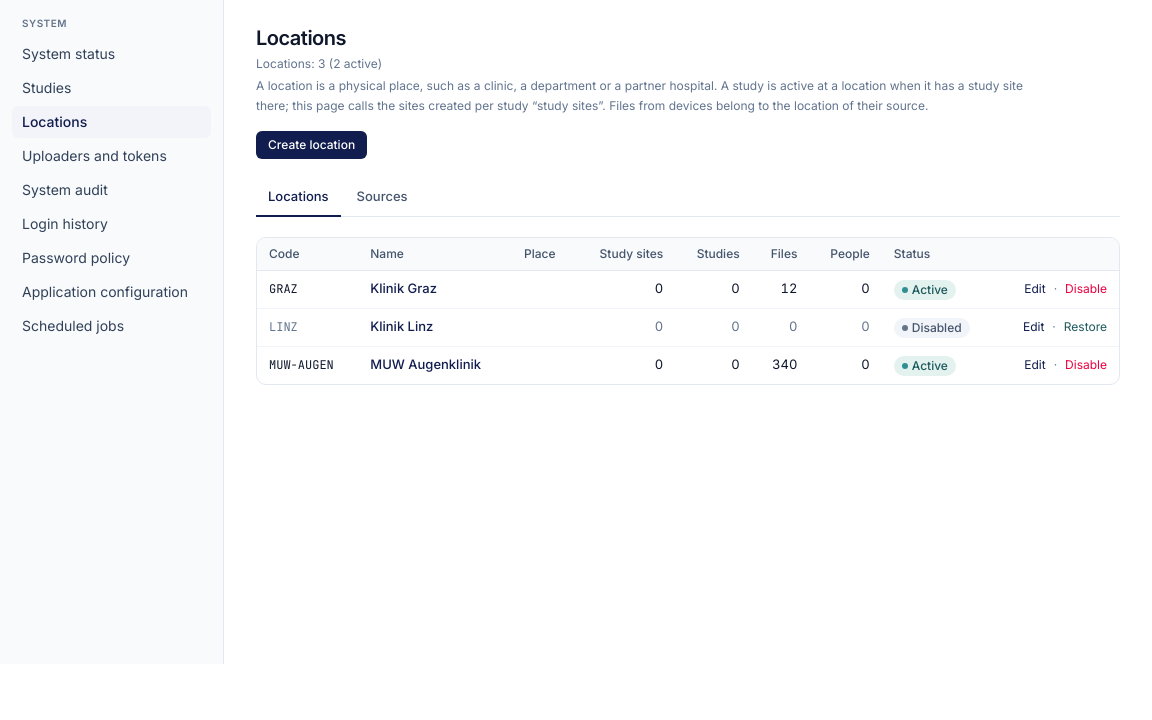
Scenario: System → Standorte → Quellen › the sources table › says that every source has a location when none is missing one
Click the tab "Sources" at (382, 198), box [345,179,420,216]
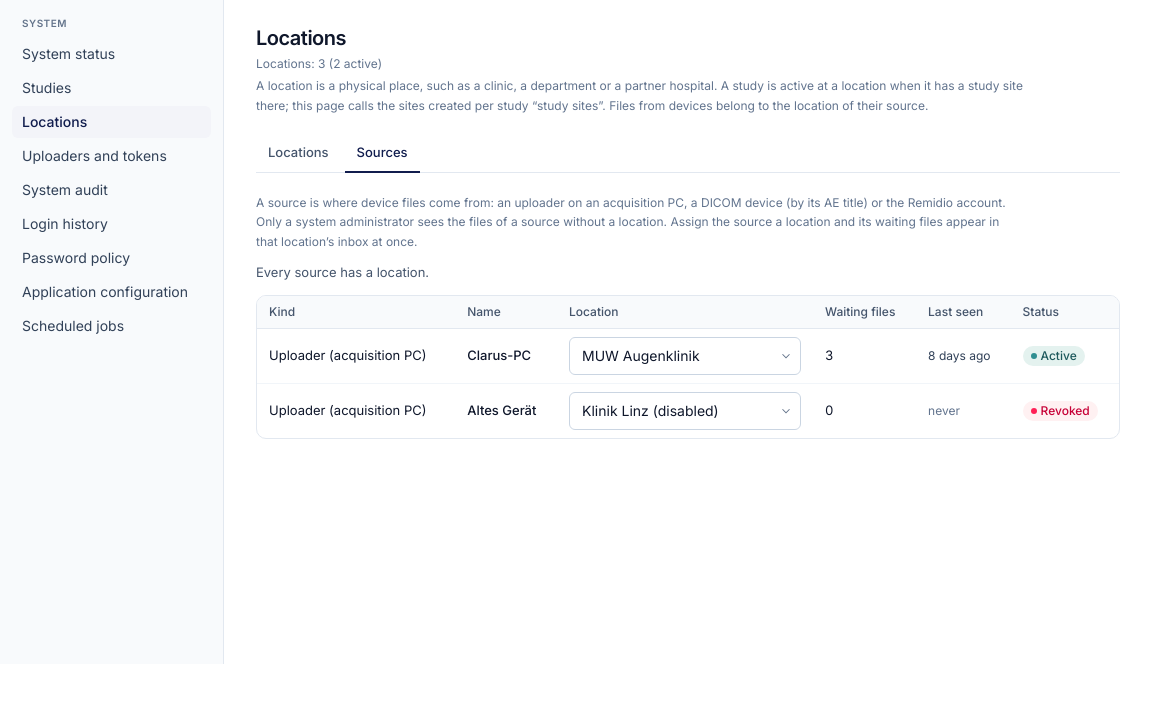
Check: the text "Every source has a location." is shown, box [256,264,429,280]
